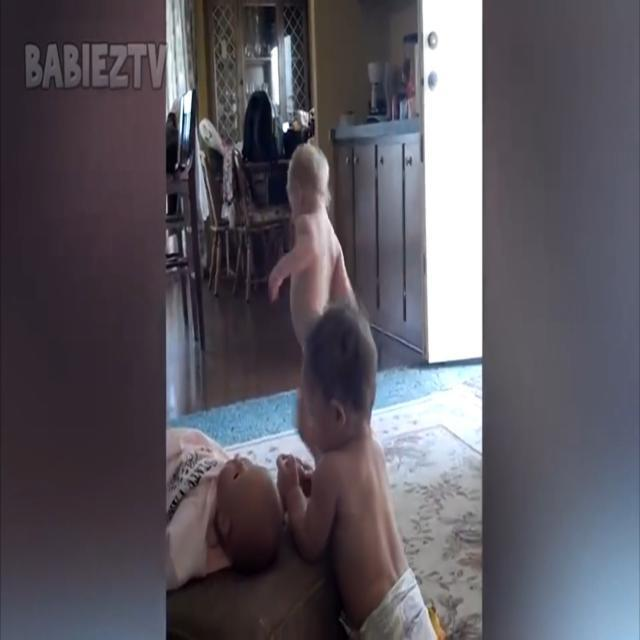child: (275, 312, 439, 640), (269, 142, 362, 393)
